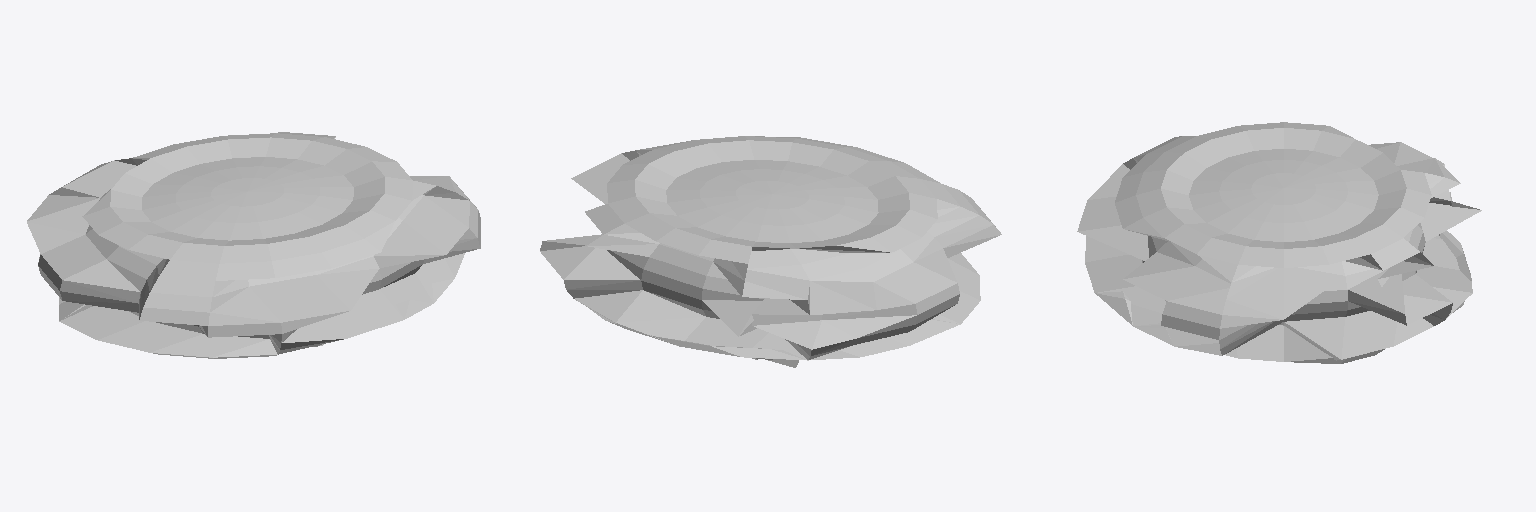
File: asteroid_city.obj
The picture shows the model from 3 angles: view 1: azimuth 30°, elevation 25°; view 2: azimuth 150°, elevation 25°; view 3: azimuth 270°, elevation 25°; orthographic projection.
Parts seen in each view (by area): view 1: pSphere4; view 2: pSphere4; view 3: pSphere4.
Part boxes in pixels (x1,y1,x2,y2): pSphere4: (27, 132, 480, 358); pSphere4: (540, 136, 1001, 367); pSphere4: (1077, 122, 1481, 363).
Bounding box in the file's own units: 0.6709 × 0.2126 × 0.6043.